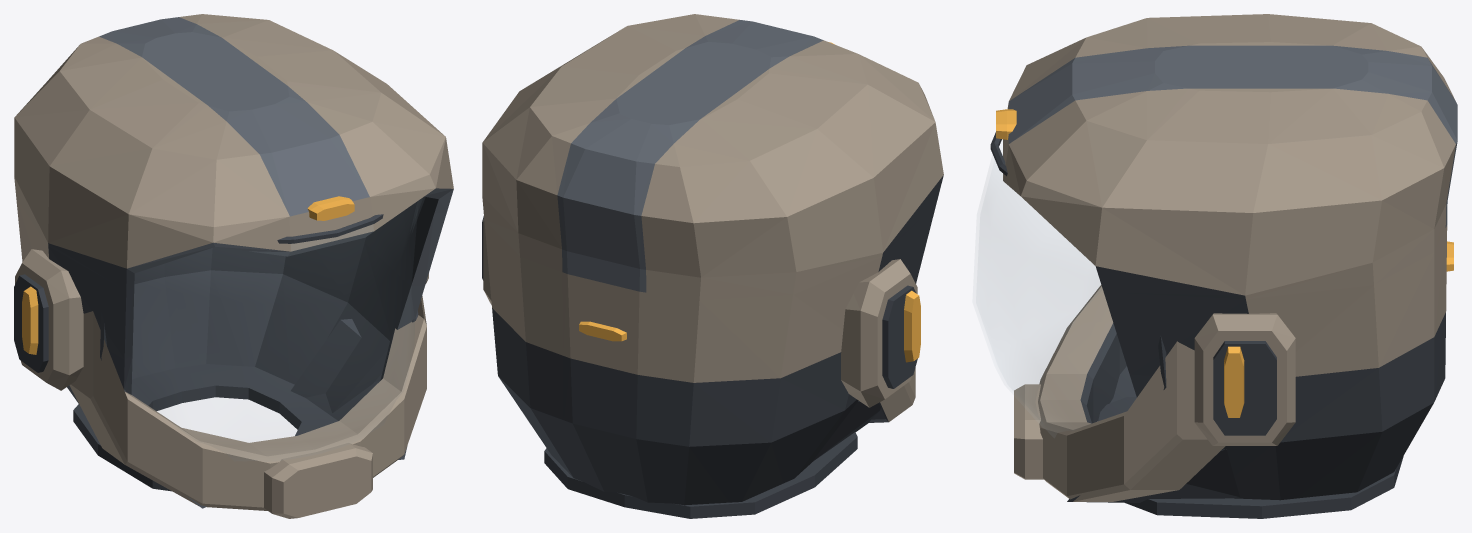
The model's file is helmet_medium.glb.
The picture shows the model from 3 angles, left to right: view 1: azimuth 30°, elevation 25°; view 2: azimuth 150°, elevation 25°; view 3: azimuth 270°, elevation 25°; orthographic projection. The views are drawn at different scales.
Visible parts, largest first — view 1: helmet_medium; view 2: helmet_medium; view 3: helmet_medium.
Boxes of the visible parts, box(x1,y1,x2,y2) form: helmet_medium: box(14, 14, 453, 518); helmet_medium: box(482, 14, 943, 518); helmet_medium: box(976, 14, 1457, 518).
Size of the model in its own units: 1.15 by 0.99 by 1.1.
